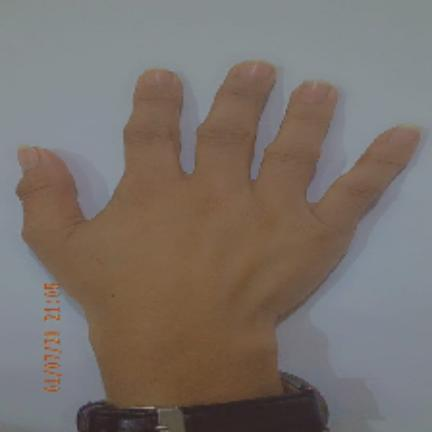Nail: (298, 78, 330, 103), (386, 125, 418, 145), (141, 68, 176, 86), (240, 59, 269, 78), (18, 146, 38, 171)
